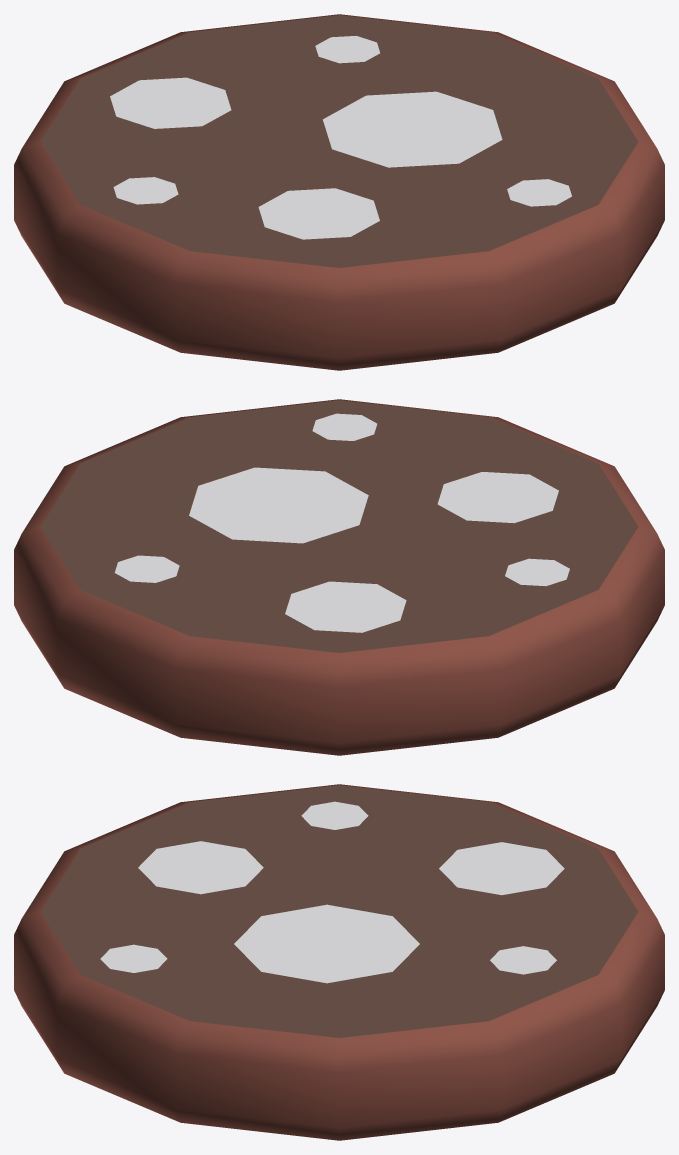
Rendered from Sausage_slise.006.fbx.
3 views of the same model, one above another, from view 1: azimuth 30°, elevation 25°; view 2: azimuth 150°, elevation 25°; view 3: azimuth 270°, elevation 25° (orthographic).
Parts seen in each view (by area): view 1: Sausage_slise.006; view 2: Sausage_slise.006; view 3: Sausage_slise.006.
Part boxes in pixels (box(x1,y1,x2,y2)): Sausage_slise.006: box(14, 14, 664, 370); Sausage_slise.006: box(14, 399, 664, 755); Sausage_slise.006: box(14, 784, 664, 1140).
Bounding box in the file's own units: 66.66 × 66.66 × 11.55.
